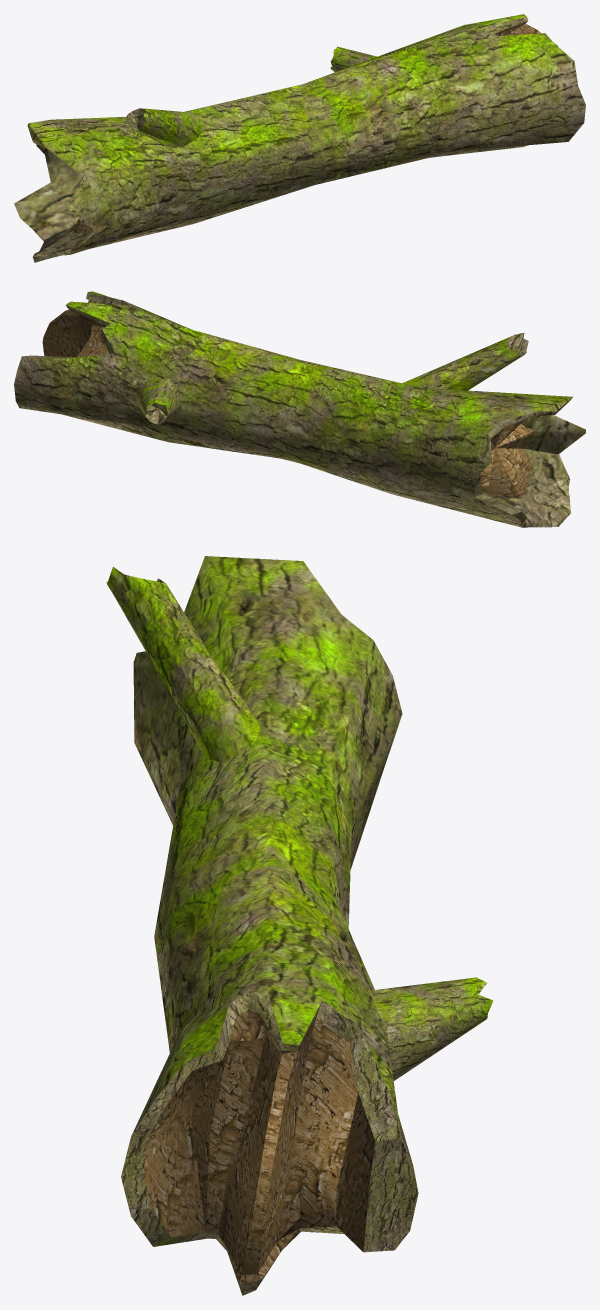
The model's file is sb_obj_ruins010_log01.fbx.
3 views of the same model, one above another, from view 1: azimuth 30°, elevation 25°; view 2: azimuth 150°, elevation 25°; view 3: azimuth 270°, elevation 25° (orthographic). The views are drawn at different scales.
Parts seen in each view (by area): view 1: sb_obj_ruins010_log01; view 2: sb_obj_ruins010_log01; view 3: sb_obj_ruins010_log01.
Part boxes in pixels (x1,y1,x2,y2): sb_obj_ruins010_log01: (14,14,585,262); sb_obj_ruins010_log01: (14,291,585,527); sb_obj_ruins010_log01: (106,556,493,1295).
Size of the model in its own units: 2.82 by 0.799 by 0.9084.
